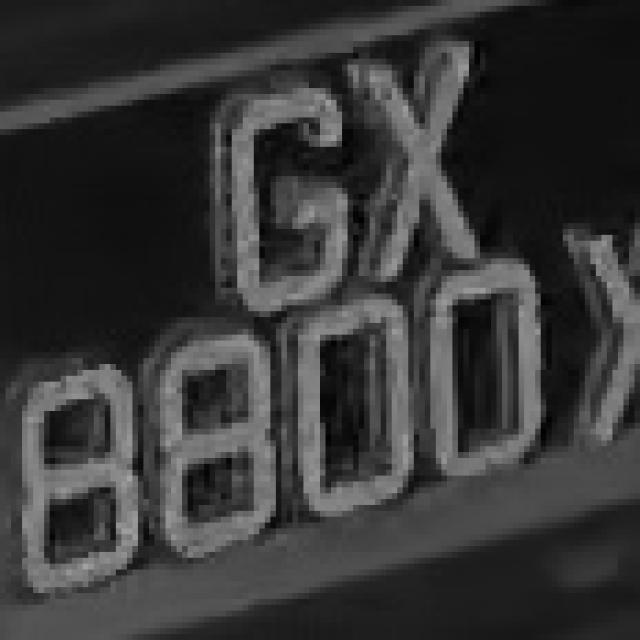0: (420, 276, 580, 493), (287, 300, 430, 522)
8: (149, 329, 287, 575), (11, 352, 138, 599)
G: (188, 76, 380, 317)
X: (359, 41, 513, 294)
